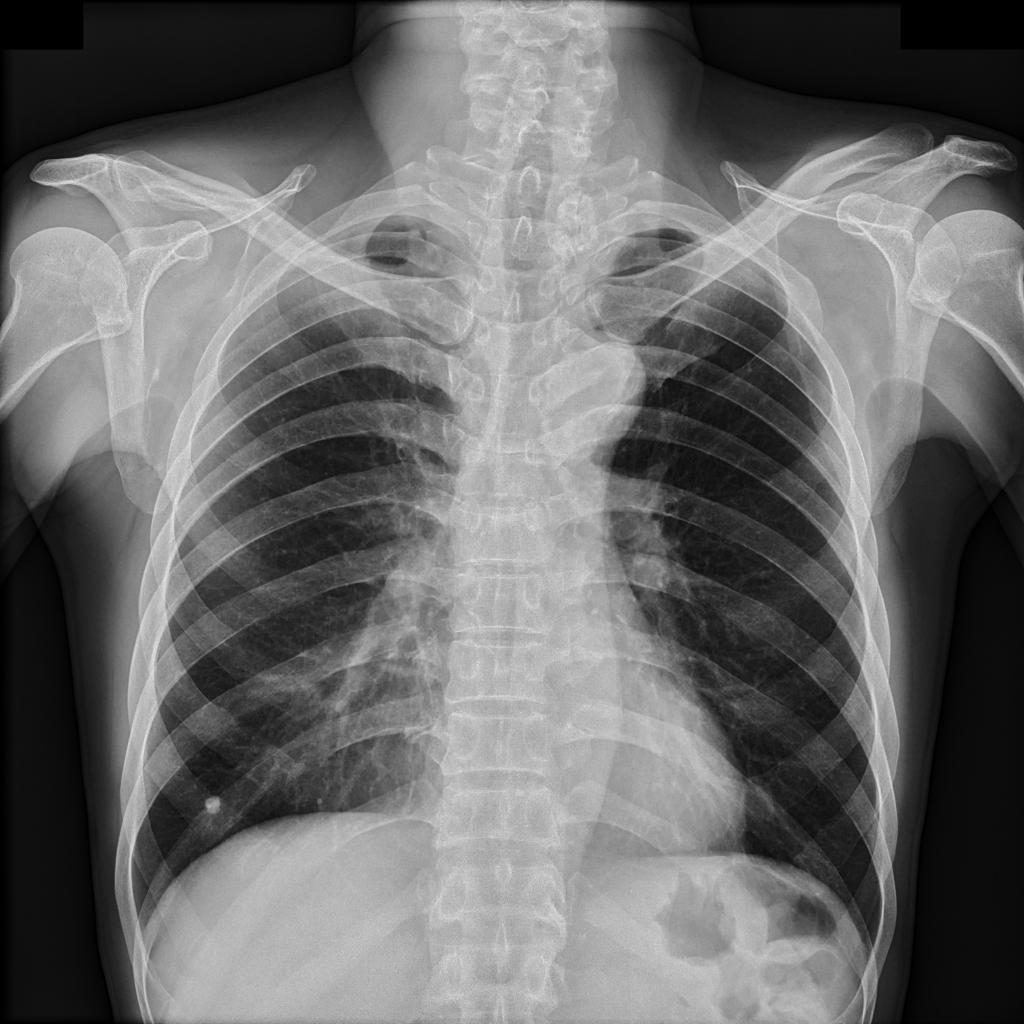Nodule: (205, 795, 222, 815)
